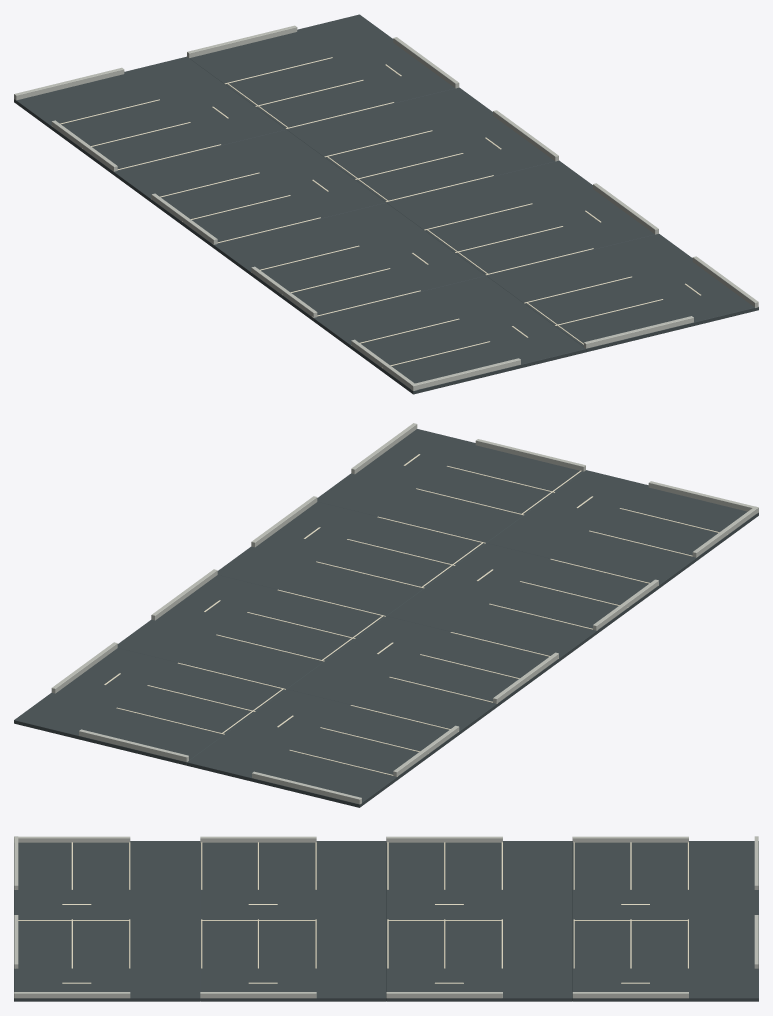
File: facility.glb
3 views of the same model, one above another, from view 1: azimuth 30°, elevation 25°; view 2: azimuth 150°, elevation 25°; view 3: azimuth 270°, elevation 25° (orthographic). The views are drawn at different scales.
Parts seen in each view (by area): view 1: FacilityCombinedMesh; view 2: FacilityCombinedMesh; view 3: FacilityCombinedMesh.
Boxes of the visible parts, <box> form: FacilityCombinedMesh: <box>14,14,758,394</box>; FacilityCombinedMesh: <box>14,423,758,807</box>; FacilityCombinedMesh: <box>14,836,758,1001</box>.
Size of the model in its own units: 16 by 0.375 by 32.
